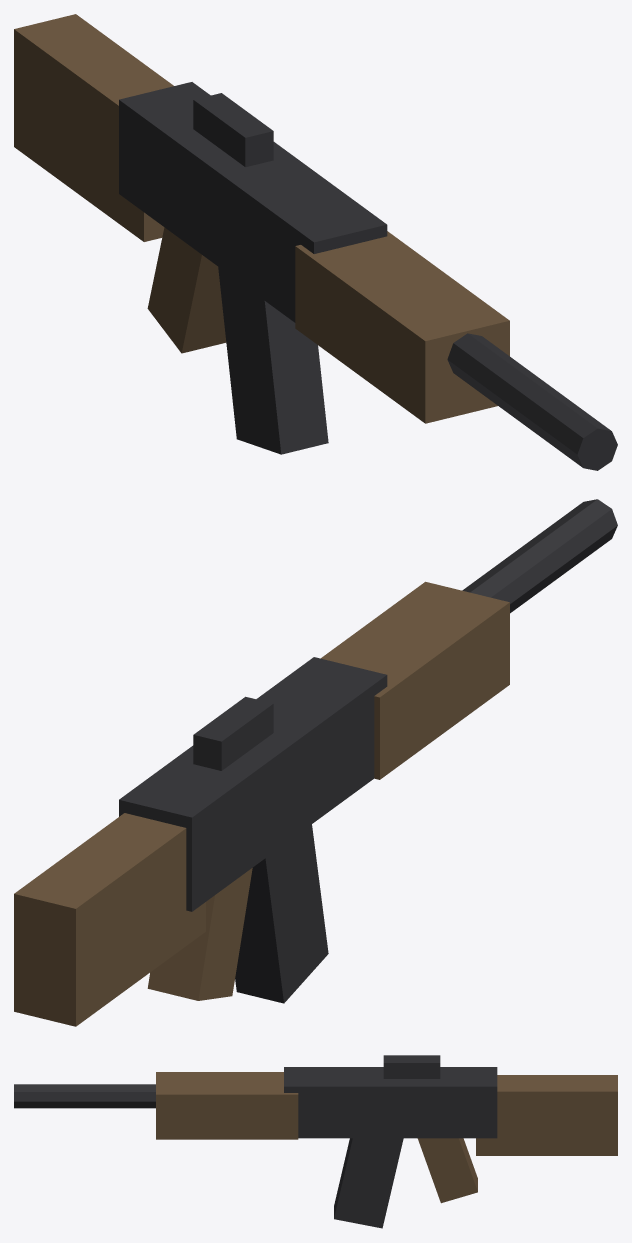
The model's file is rifle.glb.
The picture shows the model from 3 angles, top to bottom: view 1: azimuth 30°, elevation 25°; view 2: azimuth 150°, elevation 25°; view 3: azimuth 270°, elevation 25°; orthographic projection. The views are drawn at different scales.
Parts seen in each view (by area): view 1: Rifle; view 2: Rifle; view 3: Rifle.
Boxes of the visible parts, x1,y1,x2,y2 form: Rifle: (14,14,617,470); Rifle: (14,499,617,1026); Rifle: (14,1055,617,1228).
Size of the model in its own units: 0.075 by 0.2531 by 0.85.
